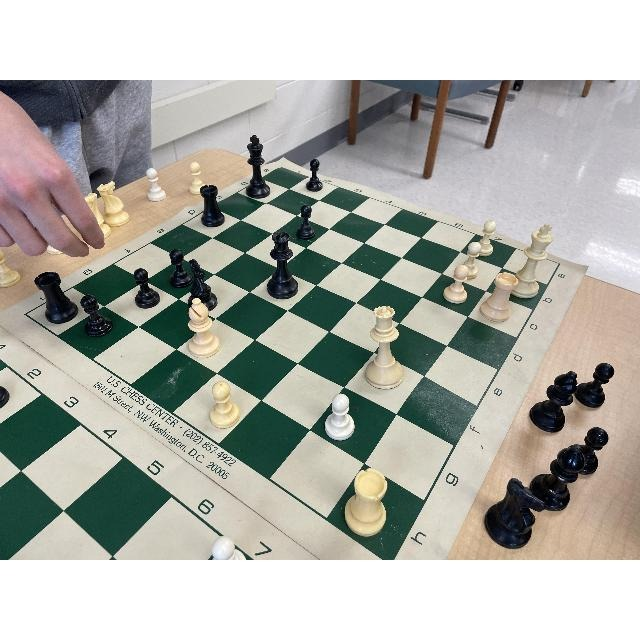black-king: (244, 133, 272, 199)
black-knight: (185, 260, 219, 312)
black-pawn: (81, 295, 115, 341), (133, 269, 163, 310), (199, 185, 227, 227), (169, 247, 193, 288), (305, 158, 327, 194), (297, 204, 317, 241)
black-queen: (268, 232, 300, 300)
black-rook: (35, 271, 81, 327)
white-bishop: (188, 300, 222, 362)
white-king: (512, 222, 558, 301)
white-pawn: (207, 381, 243, 431), (324, 393, 356, 443), (443, 265, 473, 307), (459, 241, 482, 280), (476, 219, 497, 260)
white-queen: (365, 305, 409, 390)
white-rook: (341, 466, 390, 541), (482, 272, 521, 327)
